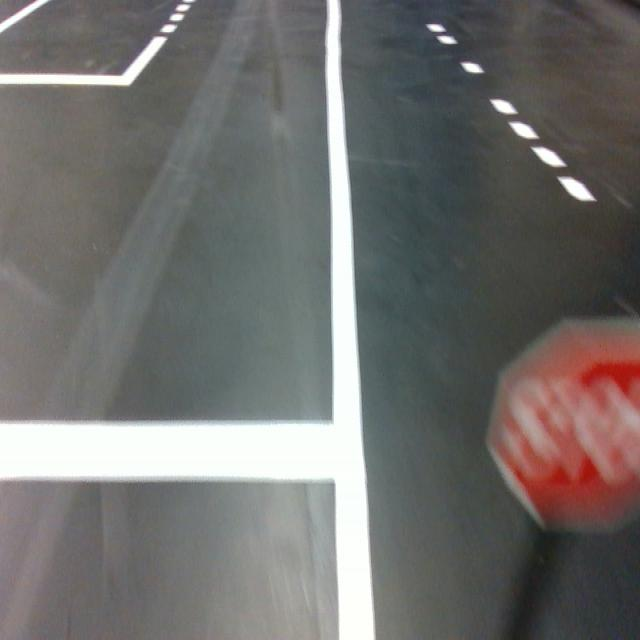stop-sign: (483, 313, 640, 536)
